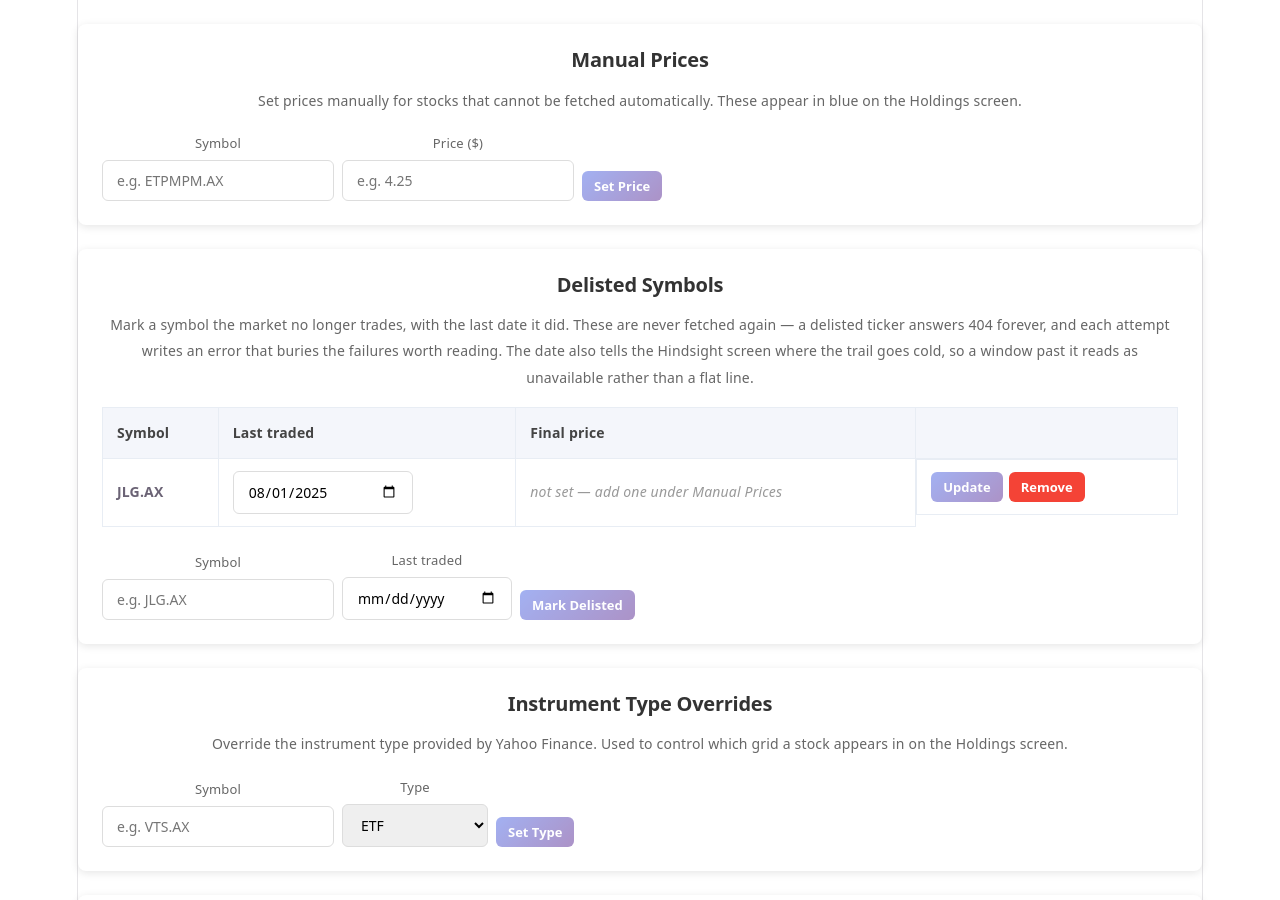
Test: delisted symbols › reports a refused date and keeps the stored value
This screenshot has width=1280, height=900.
Click the button "Remove": (1047, 487) [1009,472,1085,502]
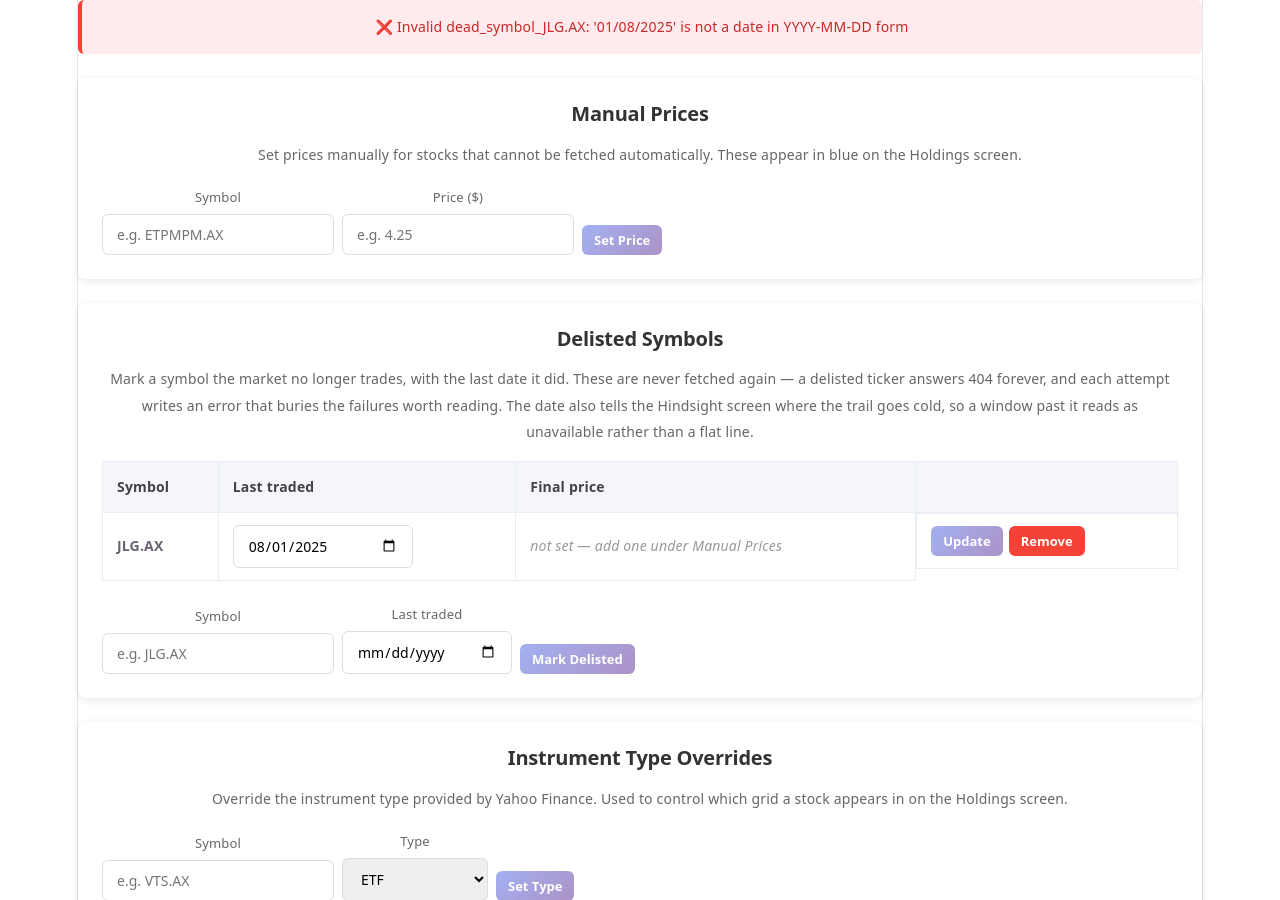
Check: the text "JLG.AX" is shown, box [117,536,164,555]
Check: the text "is not a date" is shown, box [397,17,909,36]
